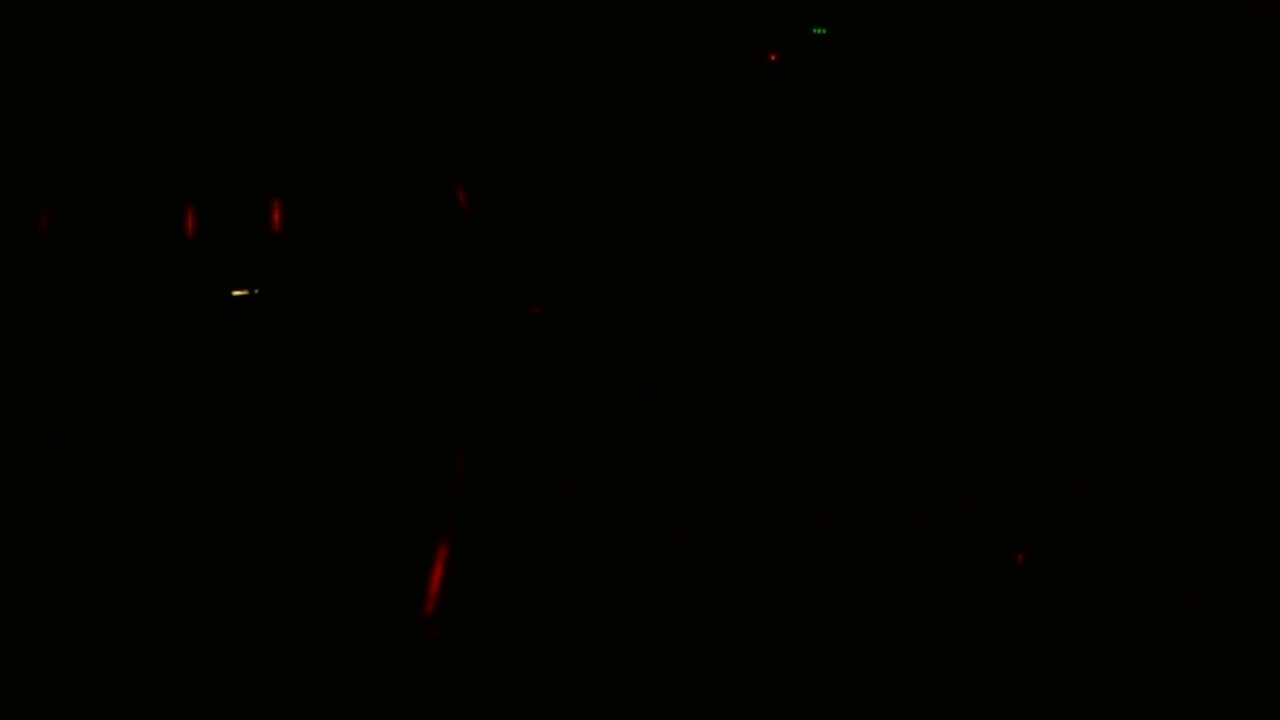pair1: (178, 197, 287, 241)
